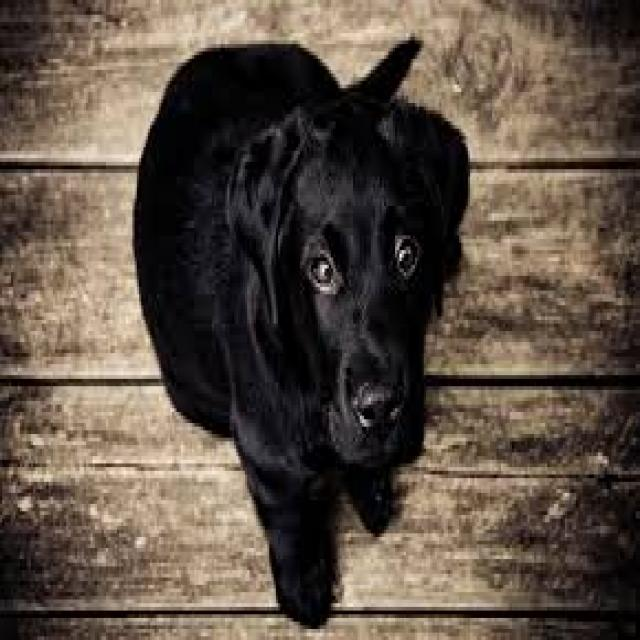Dog: (122, 29, 477, 630)
